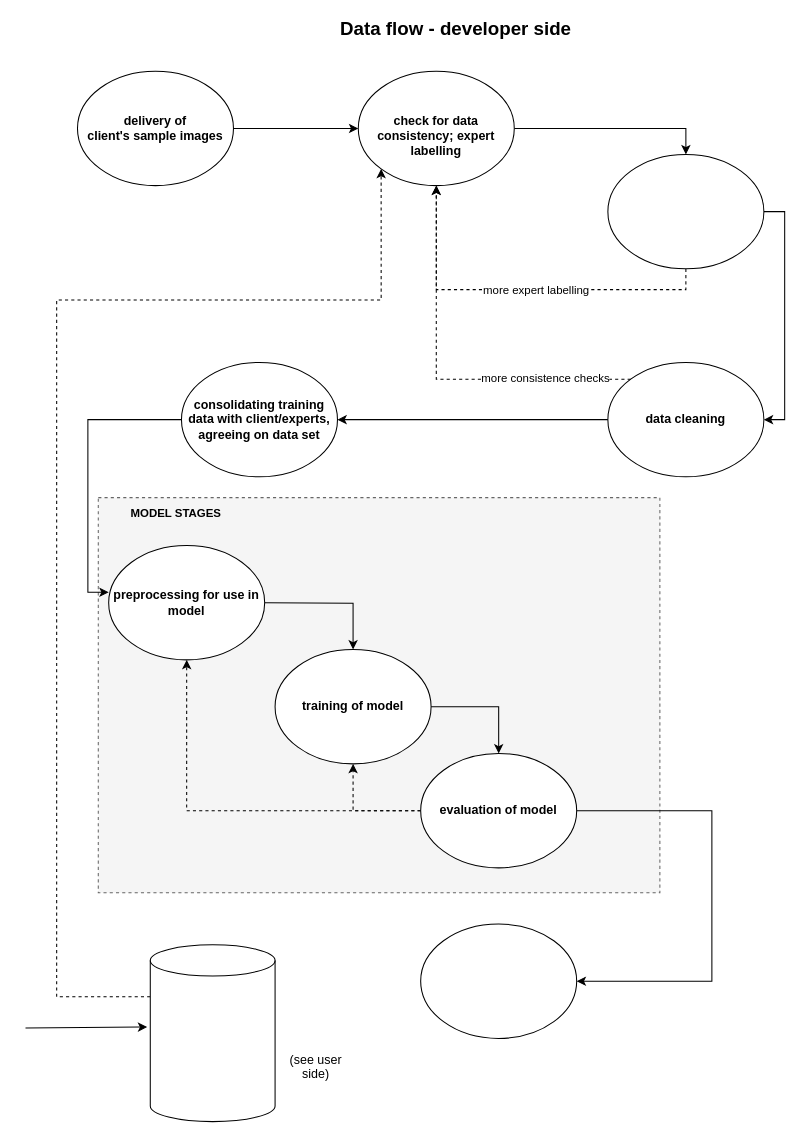
The diagram is 811 pixels wide and 1140 high, and some of its shapes have lost their labels. Each missing label, with the box of its shape:
additional data collection or delivery by client: (607, 153, 764, 269)
data storage for user images and possible retraining: (149, 944, 275, 1122)
exporting model weights to use in deployed product: (420, 923, 577, 1038)
